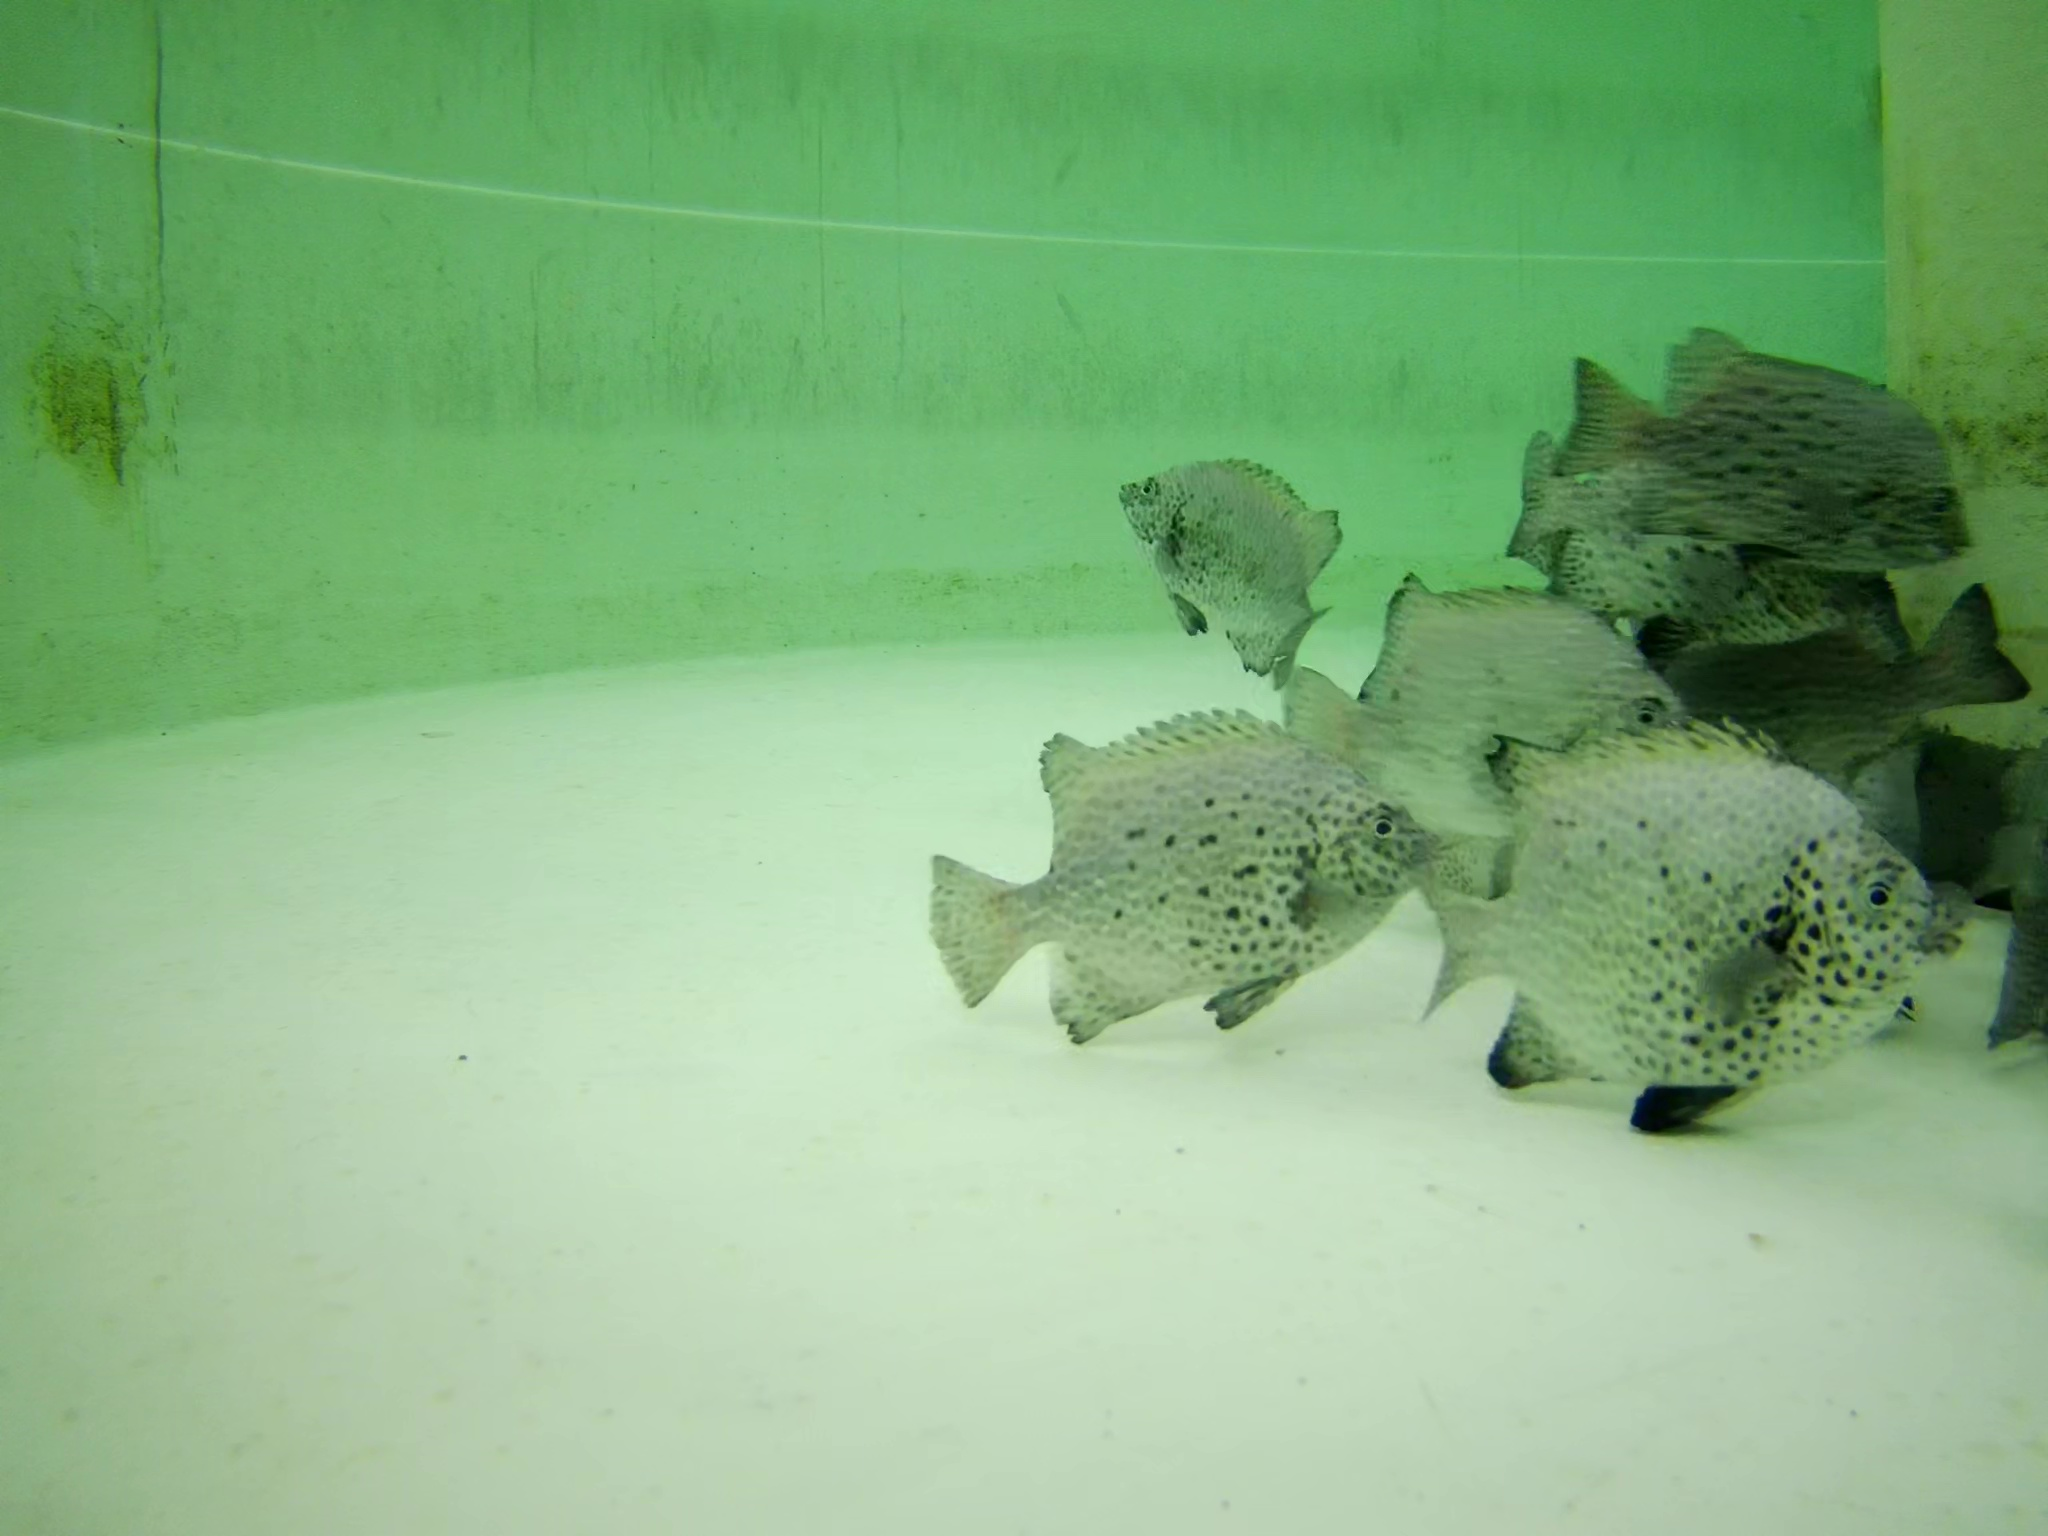fish: (1395, 718, 1975, 1110), (910, 710, 1443, 1028), (1269, 579, 1706, 836), (1558, 324, 1975, 582), (1111, 457, 1345, 663), (1706, 591, 2029, 718), (1514, 421, 1774, 539), (1543, 500, 1729, 610), (1687, 563, 1900, 649), (1998, 784, 2048, 1063)
